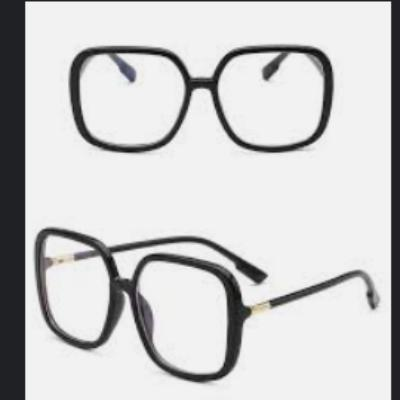glasses: (33, 219, 383, 384), (67, 41, 336, 157)
